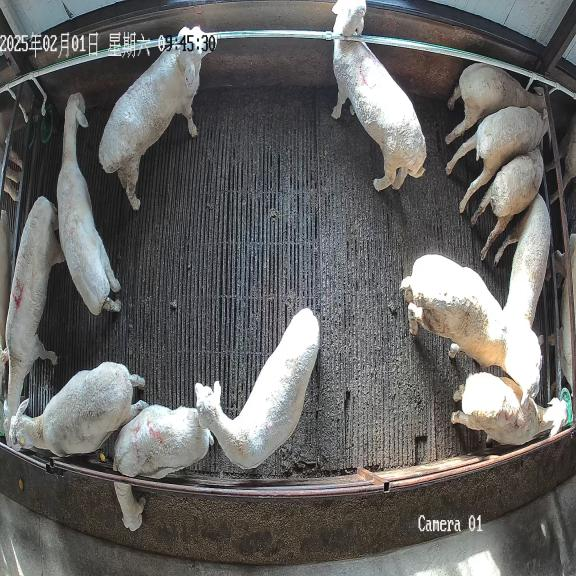drinking: (446, 106, 550, 212), (445, 63, 545, 144), (471, 148, 543, 259)
eating: (108, 404, 213, 531)
stand: (99, 26, 217, 210), (400, 254, 539, 403), (195, 308, 320, 469), (331, 0, 426, 191), (3, 197, 65, 442), (57, 93, 121, 315), (8, 362, 147, 456), (495, 194, 551, 368), (451, 372, 568, 445)
